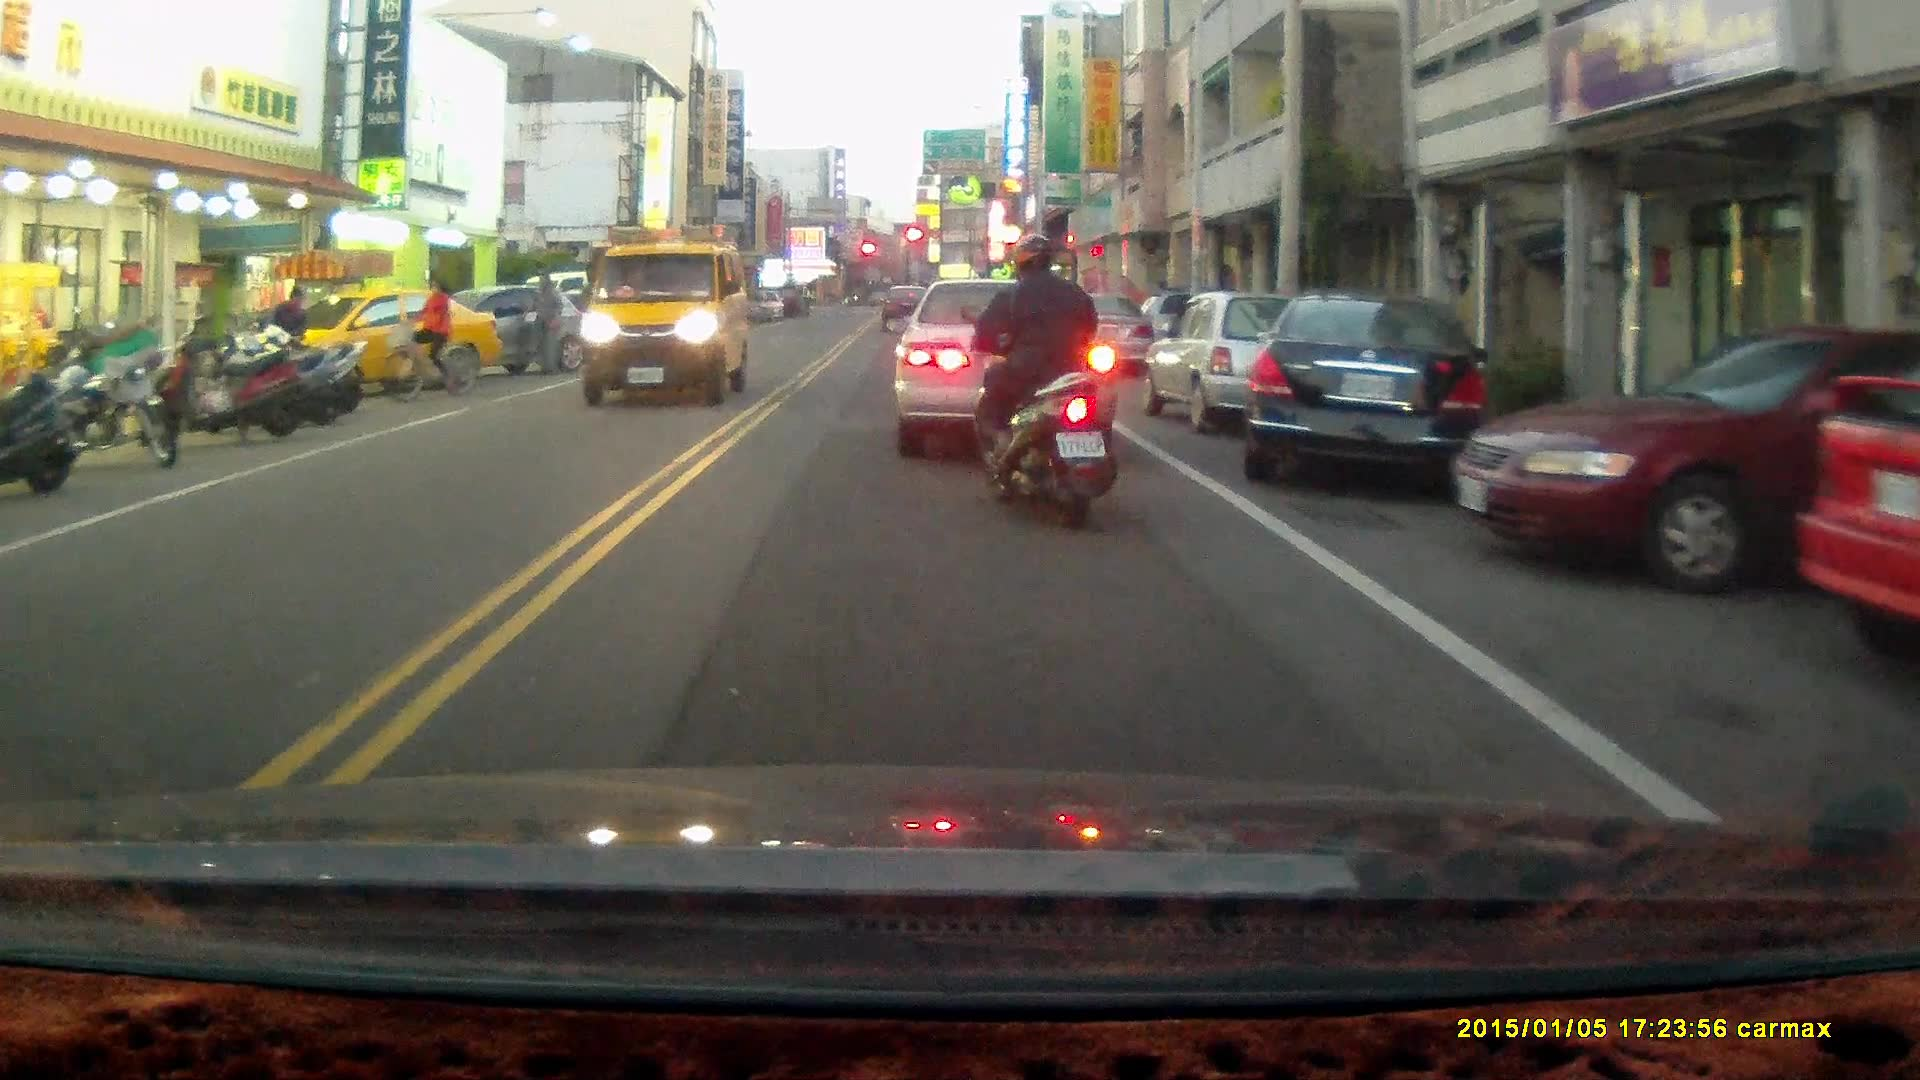pedestrian: (526, 269, 564, 373), (269, 283, 310, 376)
rider: (960, 230, 1120, 533), (379, 274, 480, 405)
vehicle: (1460, 320, 1920, 598), (1246, 288, 1498, 492), (1797, 337, 1920, 676), (900, 269, 1127, 447), (1137, 288, 1349, 436), (579, 227, 750, 404), (294, 288, 505, 392)
